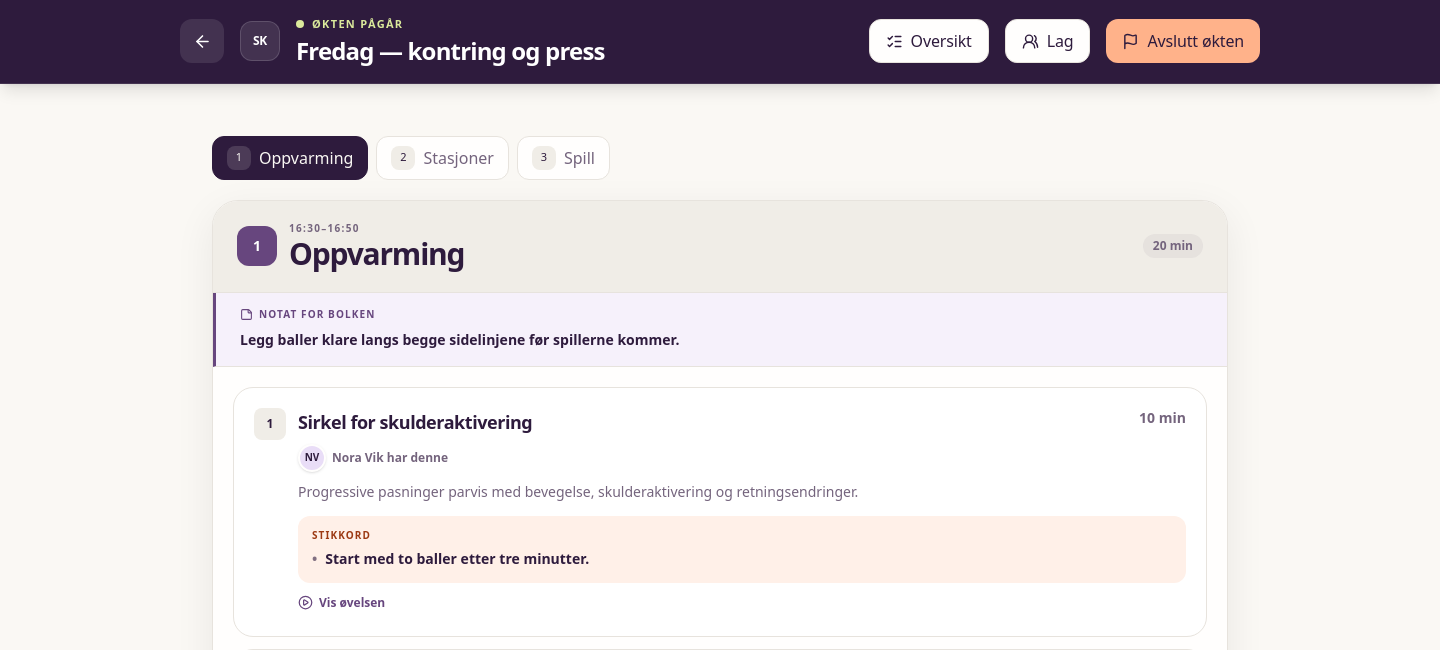
Test case: live session runner › keeps the saved teams one tap away
The width and height of the screenshot is (1440, 650).
Click the button with aria-label "Vis lag".
click(1048, 41)  # box x1=1005 y1=19 x2=1090 y2=63
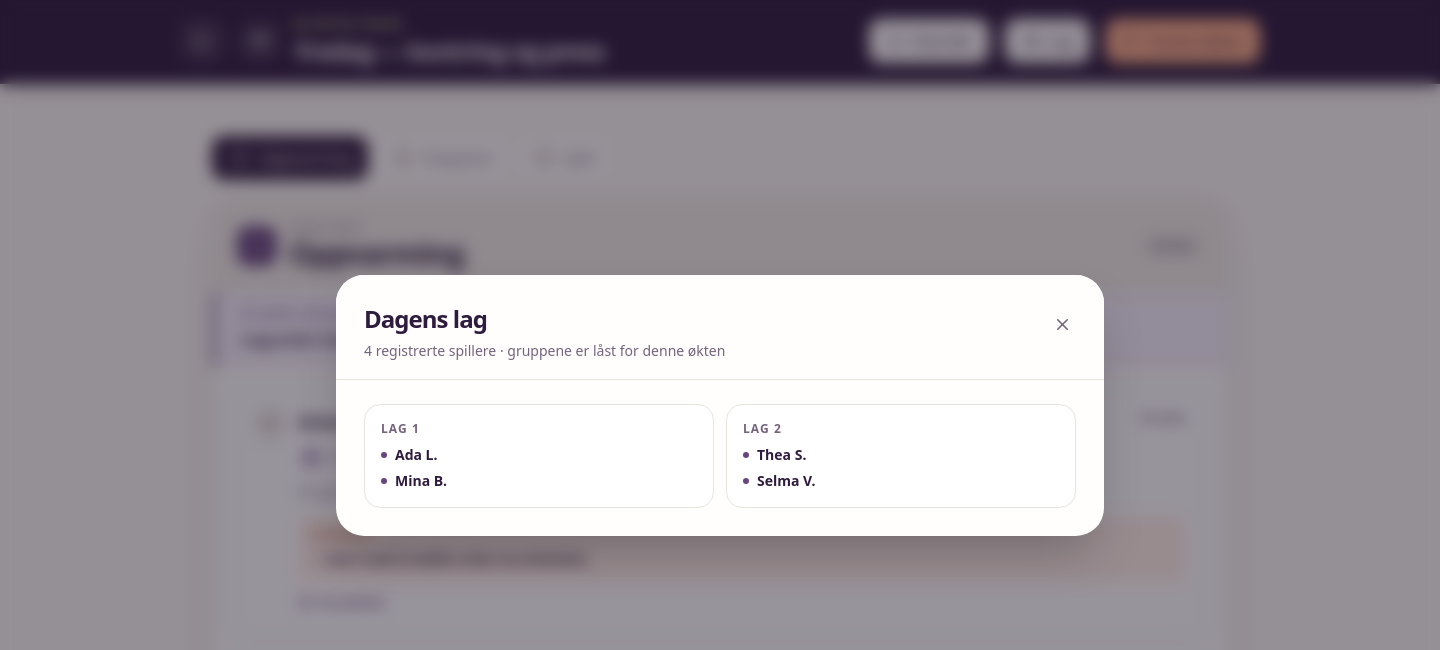
Now the text "Lag 1" is shown, box x1=381 y1=420 x2=420 y2=436
Now the list item "Ada L." is shown, box x1=381 y1=444 x2=438 y2=464
